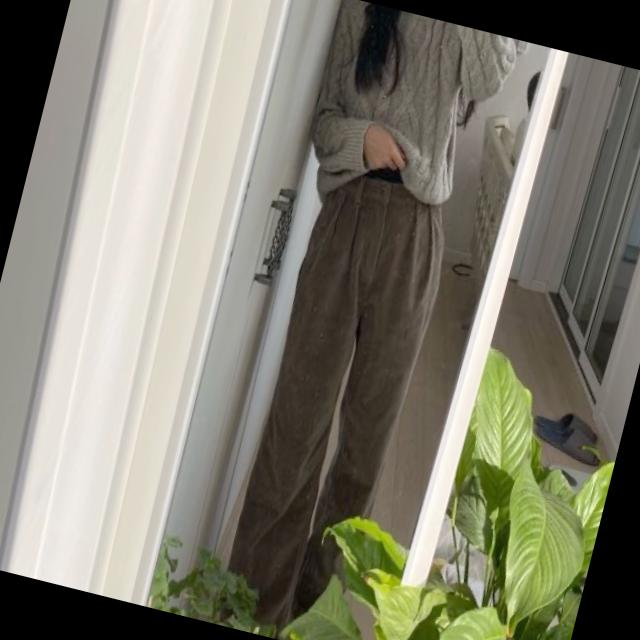cottonpants: (223, 162, 462, 618)
sweater: (299, 0, 521, 237)
